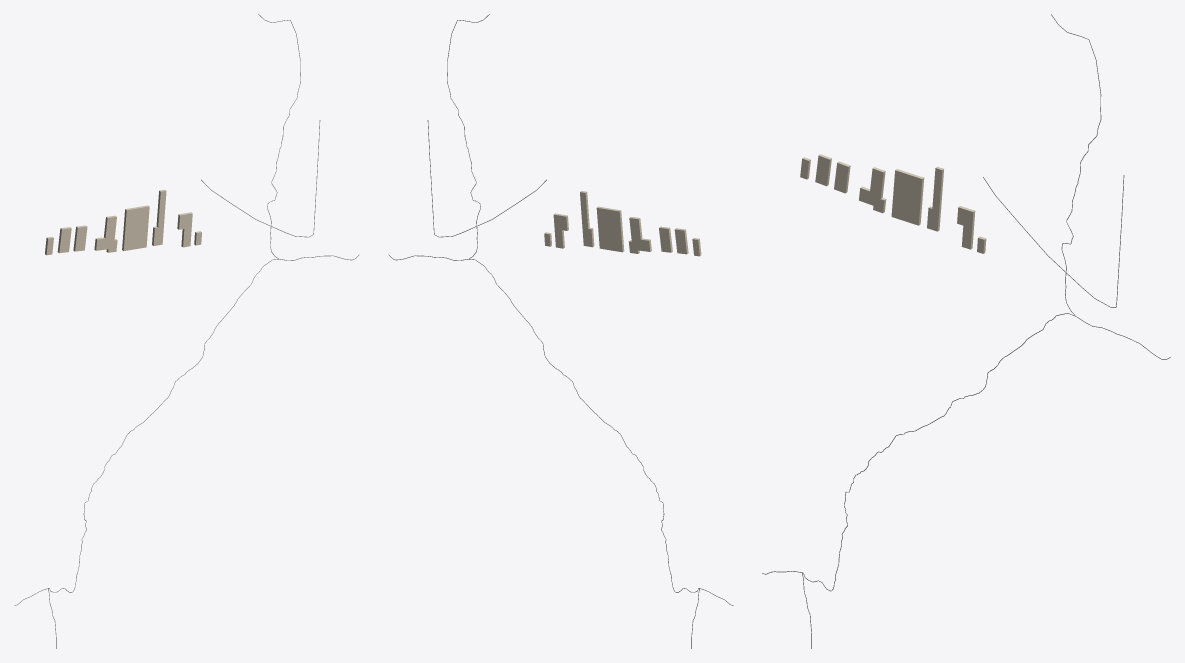
The model's file is historic-palestine-08_33_3497_3274.glb.
3 renders of one model, left to right at view 1: azimuth 30°, elevation 25°; view 2: azimuth 150°, elevation 25°; view 3: azimuth 330°, elevation 25°, orthographic. The views are drawn at different scales.
Visible parts, largest first — view 1: Building_.003, Road tira trails, Building_.004, Building_.002; view 2: Building_.003, Road tira trails, Building_.004, Building_.002; view 3: Building_.003, Road tira trails, Building_.004, Building_.002.
Boxes of the visible parts, bbox=[...] form: Building_.003: bbox=[122, 205, 149, 250]; Road tira trails: bbox=[14, 14, 300, 605]; Building_.004: bbox=[94, 215, 117, 252]; Building_.002: bbox=[152, 189, 166, 245]; Building_.003: bbox=[596, 206, 624, 252]; Road tira trails: bbox=[447, 14, 733, 605]; Building_.004: bbox=[628, 217, 651, 253]; Building_.002: bbox=[580, 191, 594, 247]; Building_.003: bbox=[891, 169, 924, 225]; Road tira trails: bbox=[762, 14, 1101, 591]; Building_.004: bbox=[859, 167, 886, 213]; Building_.002: bbox=[927, 166, 943, 231].
Size of the model in its own units: 923 by 1495 by 8.7.
